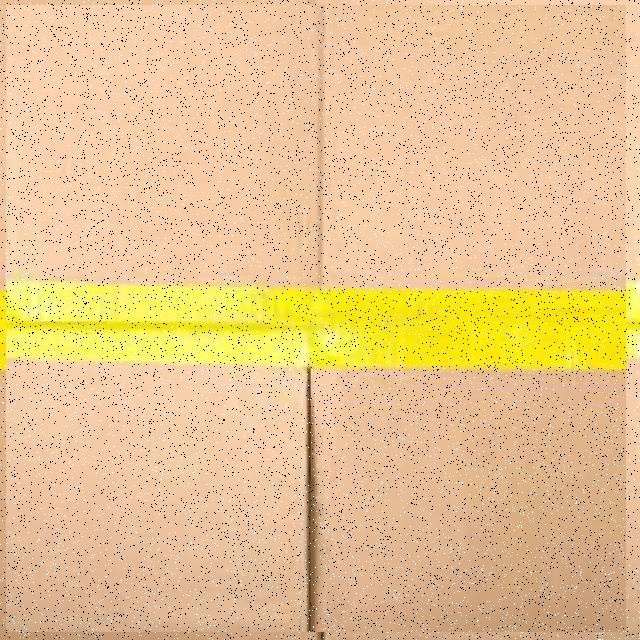normal: (6, 5, 626, 632)
